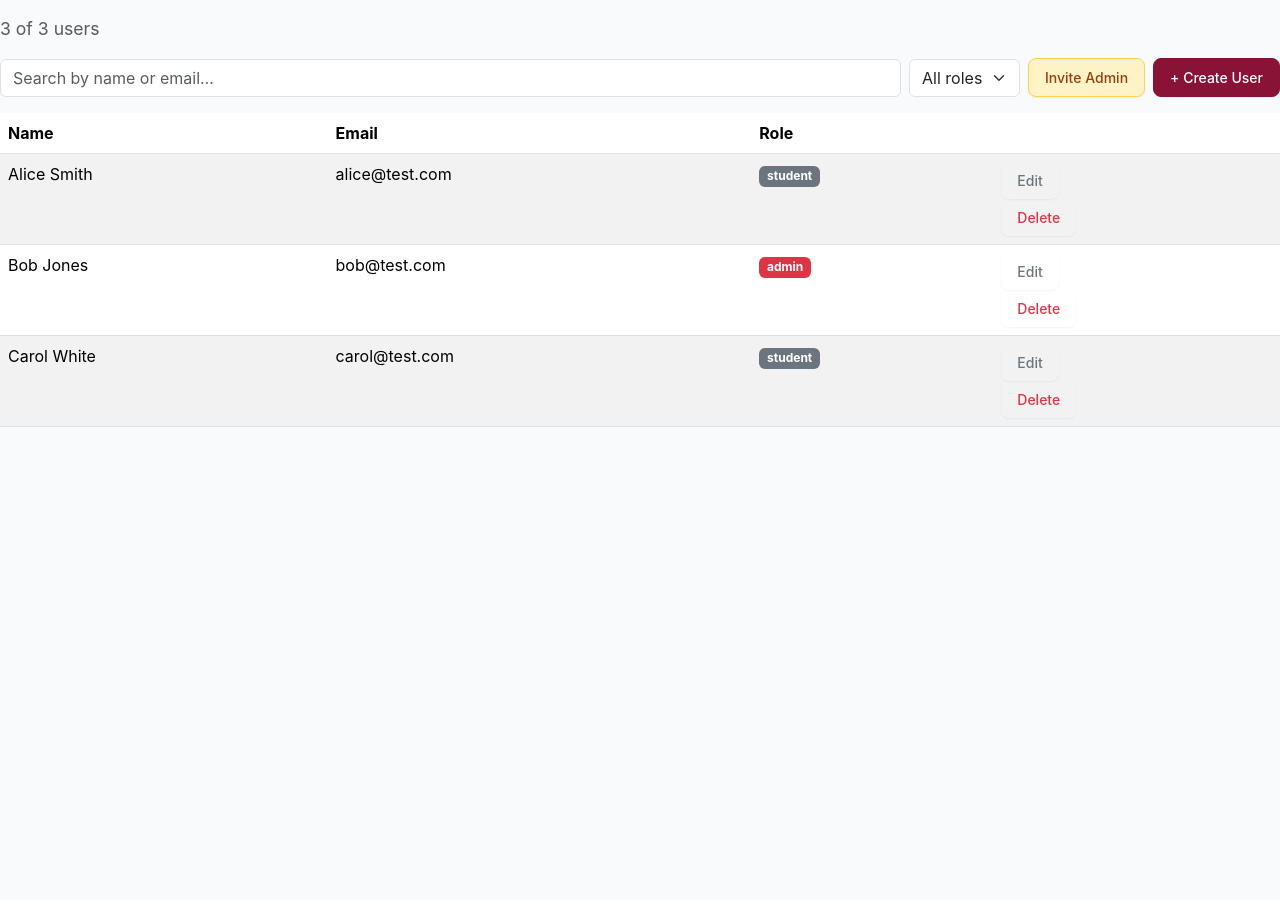
Test: UserManagementTab › opens create user modal on button click
Click the button "+ Create User": (1217, 78) [1153,58,1279,97]
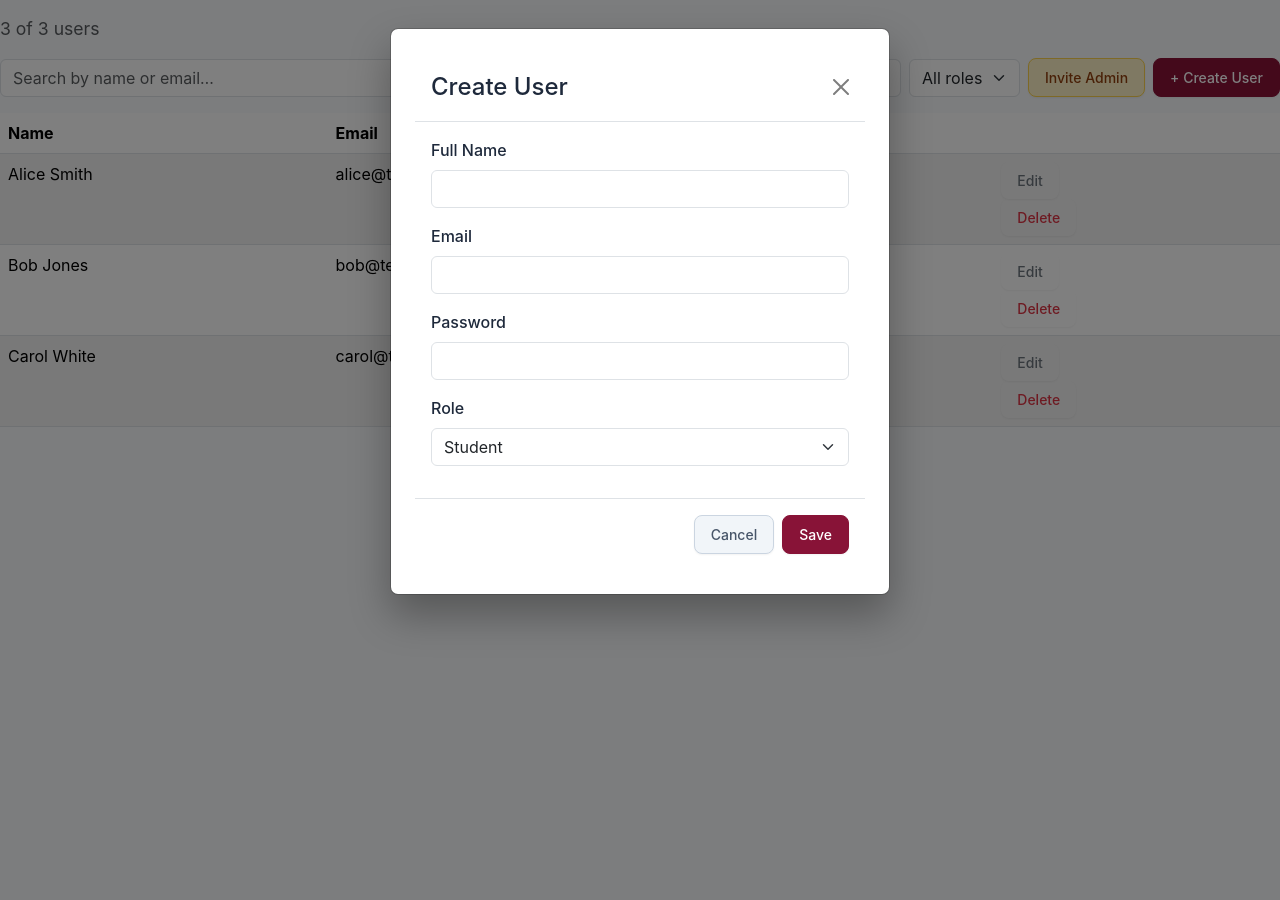
Expected: the text "Create User" is shown, [431,69,568,105]
